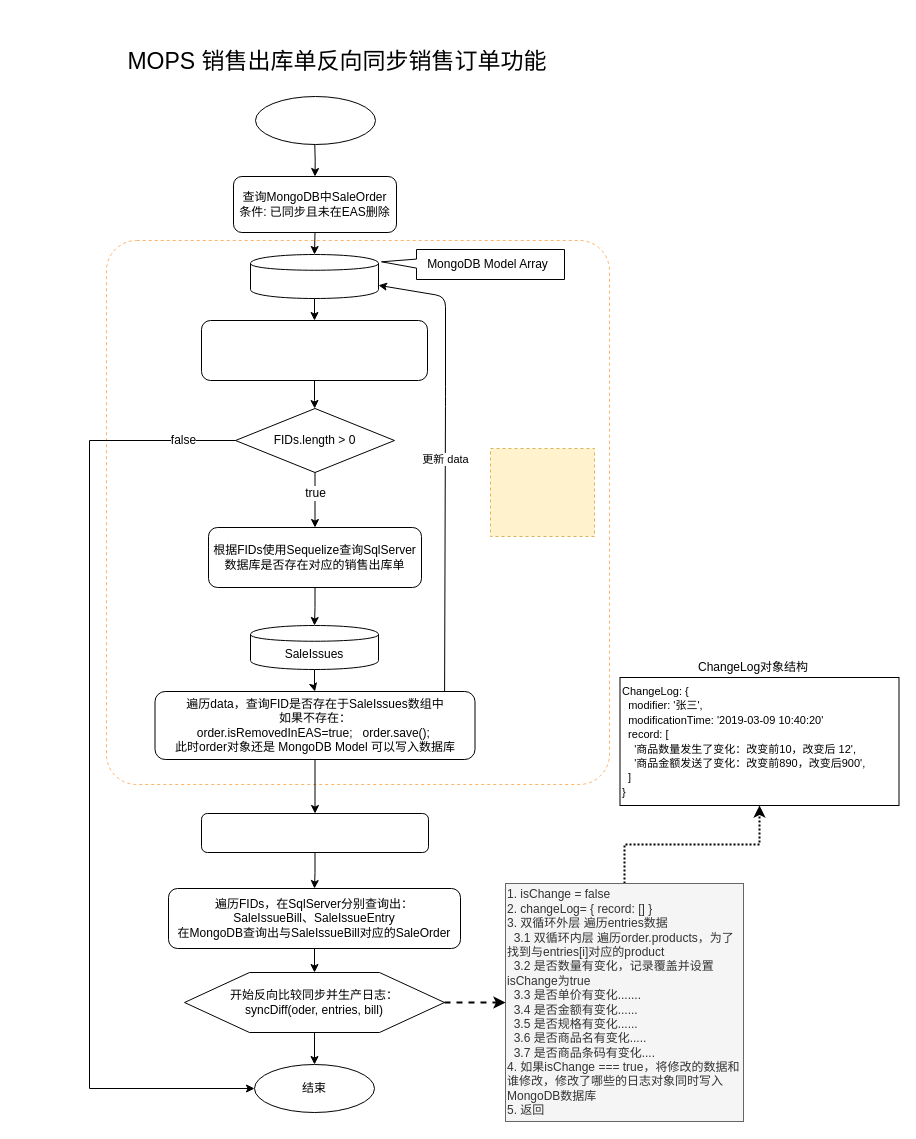
Image size: 916x1139. Some labels were removed from this diagram. Each missing label, with the box of its shape:
data: (250, 254, 378, 298)
⚠️Notice: 反向同步前，先检查是否有同步单据但在EAS中已被删除的情况。: (490, 448, 594, 536)
使用map遍历data返回新字符串数组，格式为SaleIssueBill的ID --> [ FIDs ]: (200, 320, 428, 380)
再次遍历data，条件：已同步但未删除 并生产FIDs字符串数组: (200, 812, 428, 852)
开始: (254, 96, 376, 144)
